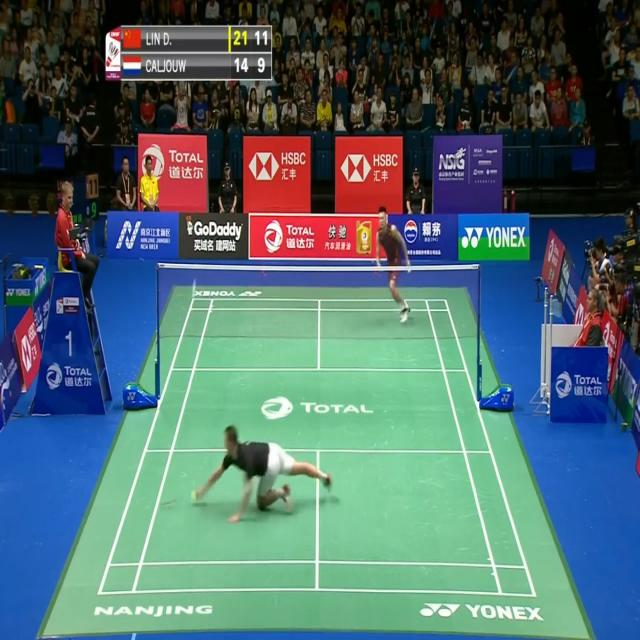Player1: (190, 414, 338, 532)
Player2: (371, 199, 417, 333)
